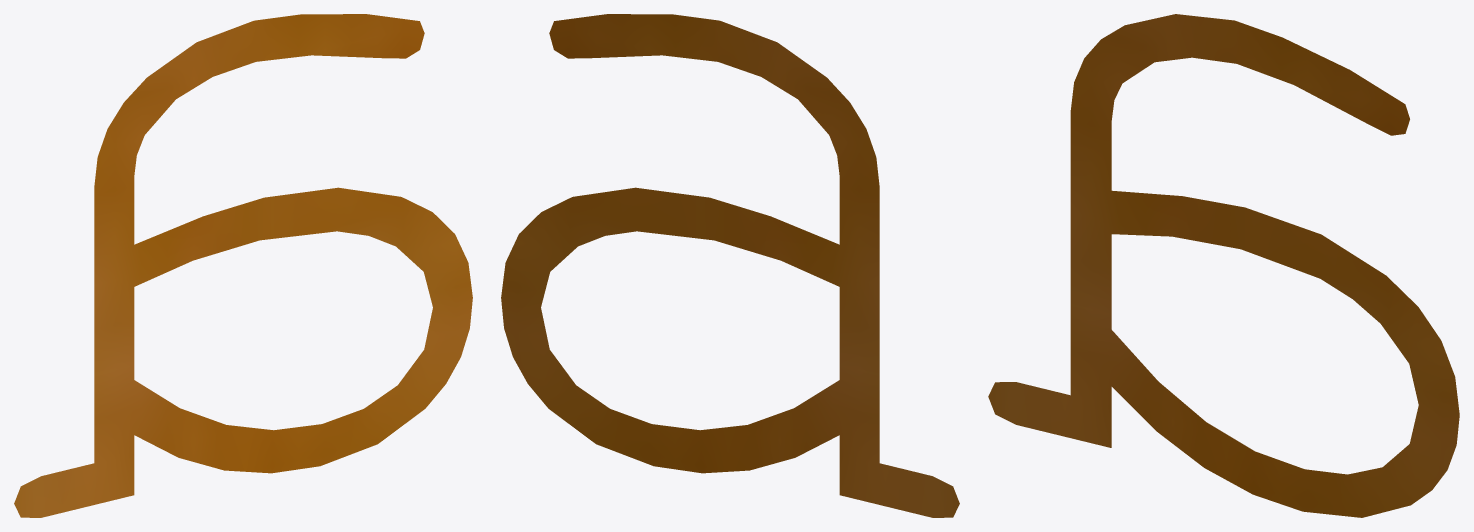
The model's file is original-31.obj.
The picture shows the model from 3 angles, left to right: view 1: azimuth 30°, elevation 25°; view 2: azimuth 150°, elevation 25°; view 3: azimuth 330°, elevation 25°; orthographic projection. The views are drawn at different scales.
Parts seen in each view (by area): view 1: mesh26/mesh26-geometry#mesh26-geometry; view 2: mesh26/mesh26-geometry#mesh26-geometry; view 3: mesh26/mesh26-geometry#mesh26-geometry.
Part boxes in pixels (x1=…): mesh26/mesh26-geometry#mesh26-geometry: x1=14, y1=14, x2=472, y2=517; mesh26/mesh26-geometry#mesh26-geometry: x1=501, y1=14, x2=959, y2=517; mesh26/mesh26-geometry#mesh26-geometry: x1=988, y1=14, x2=1459, y2=517.
Size of the model in its own units: 0.0181 by 0.0174 by 0.
